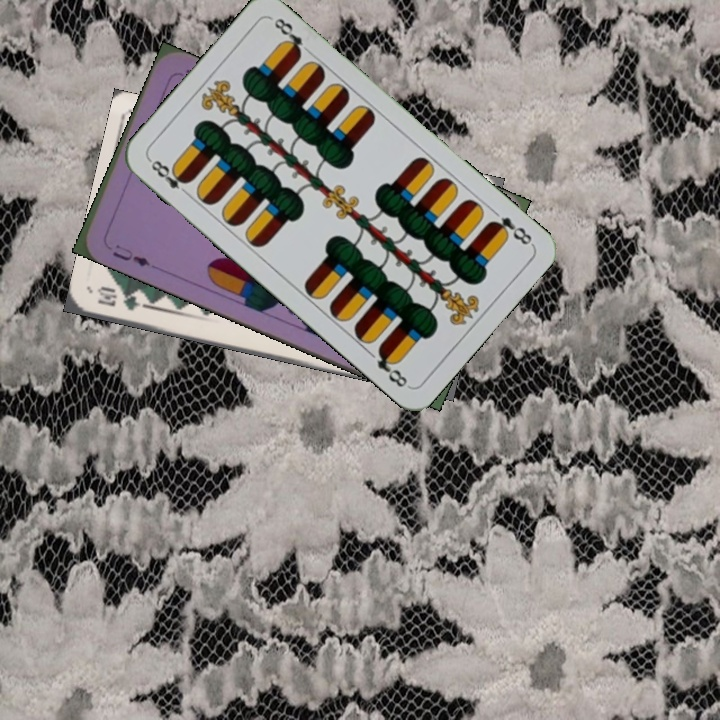E8: (145, 155, 193, 199), (484, 212, 536, 248)
EU: (108, 240, 153, 270)
G10: (93, 283, 152, 313)
